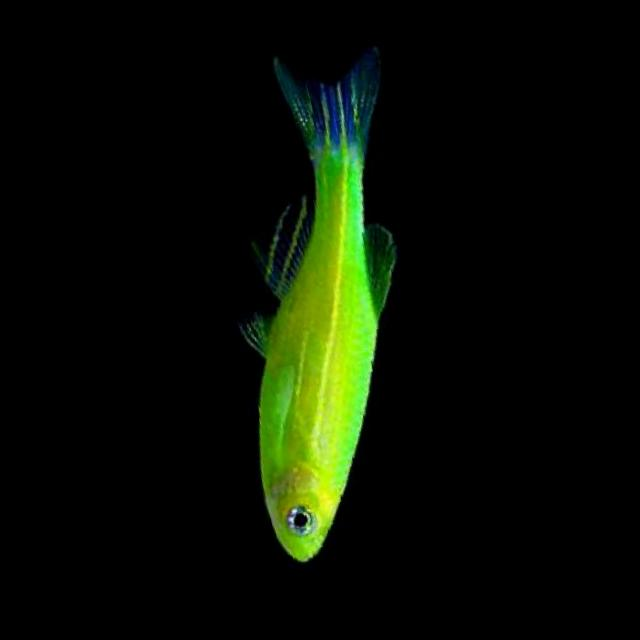ZebraFish: (165, 31, 488, 568)
